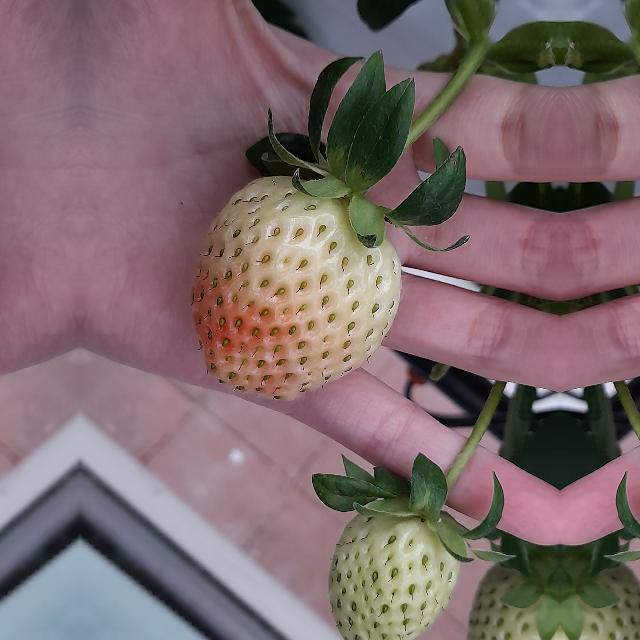Health_50: (190, 175, 402, 401)
